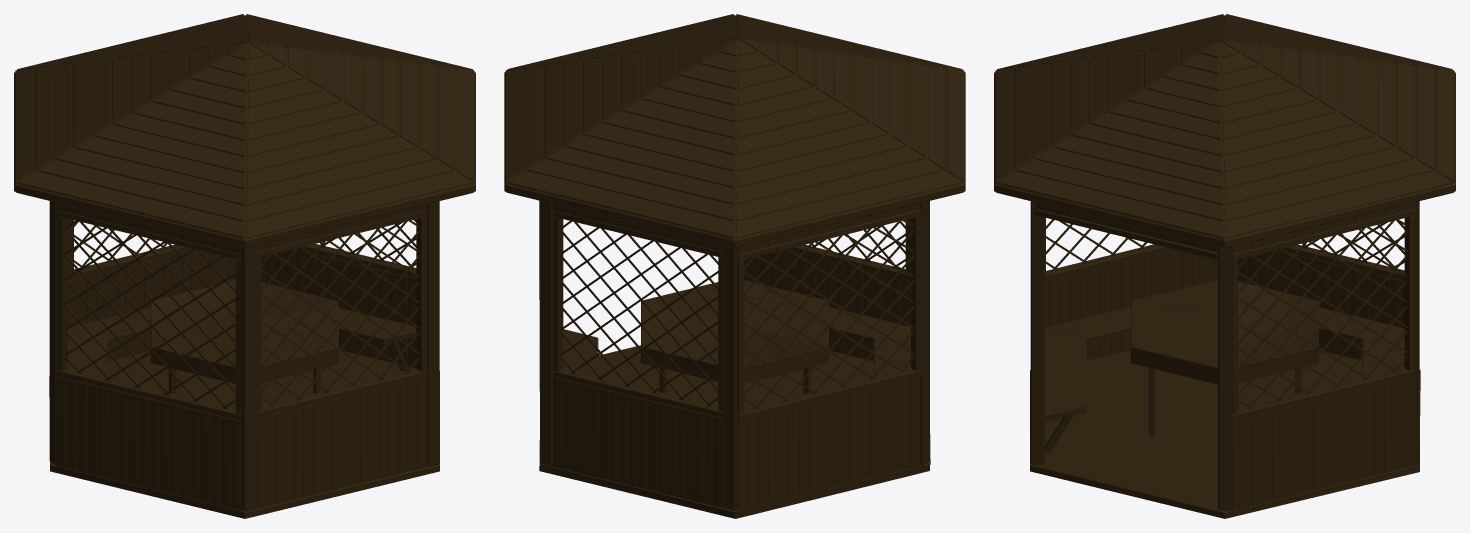
The model's file is besedka.fbx.
3 views of the same model, side by side, from view 1: azimuth 30°, elevation 25°; view 2: azimuth 150°, elevation 25°; view 3: azimuth 270°, elevation 25° (orthographic).
Visible parts, largest first — view 1: roof, wall_8, wall_7, window_1, window_3, table, pCube7, pCylinder1, wall_2, wall_9, window_5, bench_5 (+3 smaller); view 2: roof, wall_6, wall_1, window_4, window_5, table, pCube7, pCylinder1, wall_4, window_3, bench_1, bench_2 (+2 smaller); view 3: roof, pCylinder1, wall_11, window_2, table, pCube7, wall_5, wall_10, bench_1, window_1, window_4, bench_2 (+5 smaller).
Boxes of the visible parts, x1=… form: roof: x1=14, y1=14, x2=475, y2=248; wall_8: x1=57, y1=203, x2=242, y2=510; wall_7: x1=256, y1=204, x2=426, y2=508; window_1: x1=56, y1=210, x2=241, y2=420; window_3: x1=256, y1=210, x2=426, y2=418; table: x1=150, y1=280, x2=338, y2=394; pCube7: x1=49, y1=201, x2=439, y2=511; pCylinder1: x1=49, y1=351, x2=439, y2=518; wall_2: x1=261, y1=249, x2=416, y2=368; wall_9: x1=68, y1=250, x2=235, y2=361; window_5: x1=68, y1=219, x2=195, y2=280; bench_5: x1=339, y1=308, x2=416, y2=371; roof: x1=504, y1=14, x2=965, y2=247; wall_6: x1=737, y1=203, x2=920, y2=510; wall_1: x1=553, y1=204, x2=723, y2=508; window_4: x1=737, y1=209, x2=921, y2=421; window_5: x1=553, y1=210, x2=723, y2=418; table: x1=640, y1=280, x2=828, y2=394; pCube7: x1=540, y1=201, x2=929, y2=510; pCylinder1: x1=539, y1=345, x2=930, y2=518; wall_4: x1=744, y1=250, x2=910, y2=361; window_3: x1=785, y1=218, x2=910, y2=280; bench_1: x1=829, y1=307, x2=910, y2=345; bench_2: x1=873, y1=329, x2=910, y2=376; roof: x1=994, y1=14, x2=1455, y2=248; pCylinder1: x1=1030, y1=350, x2=1420, y2=518; wall_11: x1=1231, y1=202, x2=1414, y2=510; window_2: x1=1231, y1=209, x2=1415, y2=420; table: x1=1131, y1=280, x2=1318, y2=435; pCube7: x1=1030, y1=201, x2=1419, y2=510; wall_5: x1=1045, y1=249, x2=1217, y2=360; wall_10: x1=1238, y1=250, x2=1404, y2=367; bench_1: x1=1045, y1=328, x2=1086, y2=452; window_1: x1=1045, y1=217, x2=1174, y2=281; window_4: x1=1278, y1=221, x2=1404, y2=280; bench_2: x1=1045, y1=307, x2=1130, y2=343.
Bounding box in the file's own units: 368 × 292 × 319.
